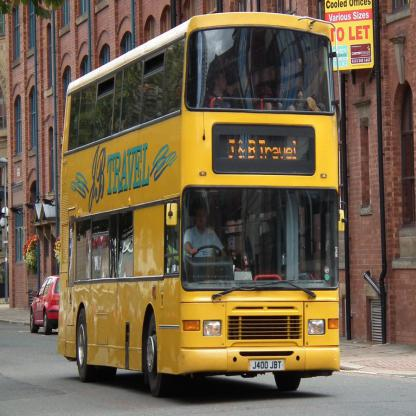Bus: (58, 11, 347, 398)
